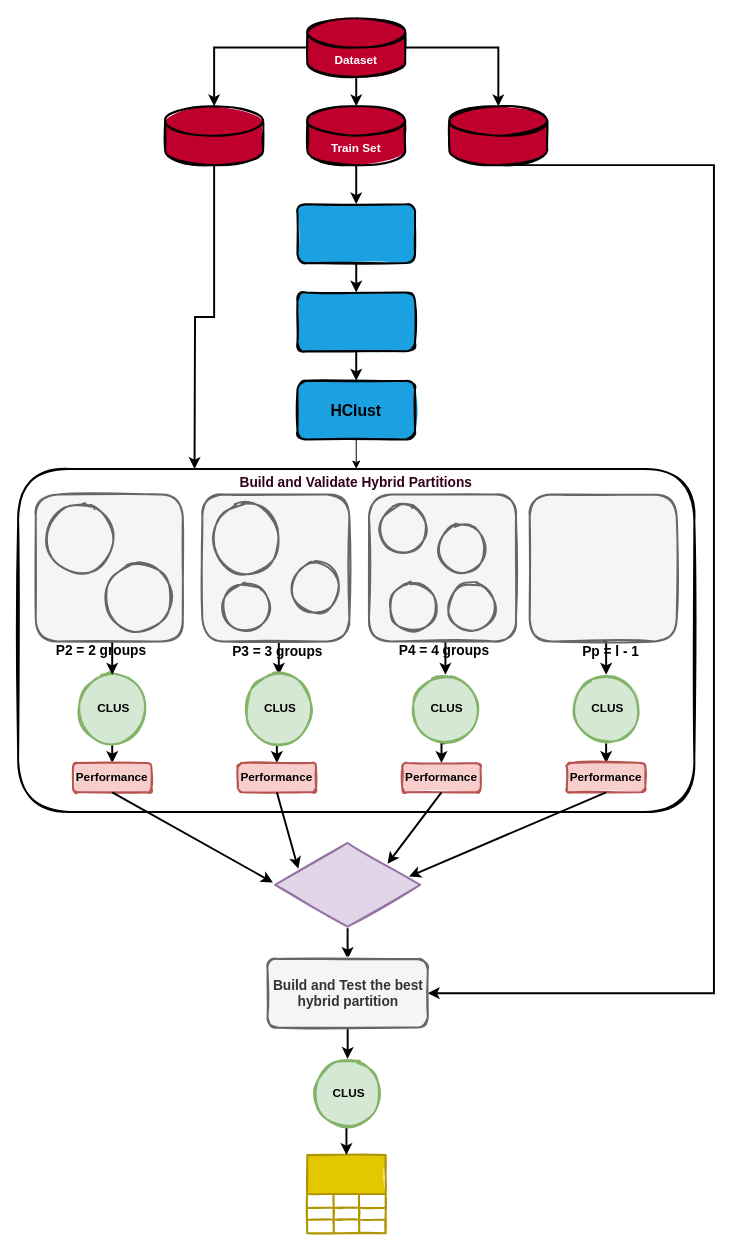
Some shapes in this 739 by 1250 pixel diagram are drawn without their labels. The box of each missing label's shape, as (x1, y1, x2, y2) in pixels:
Best Hybrid Partition Micro-F1: (274, 840, 421, 929)
Jaccard Index: (296, 291, 416, 352)
Label Space: (296, 203, 416, 264)
Results: (306, 1153, 386, 1234)
Test Set: (448, 105, 548, 166)
Validation Set: (164, 105, 264, 166)
